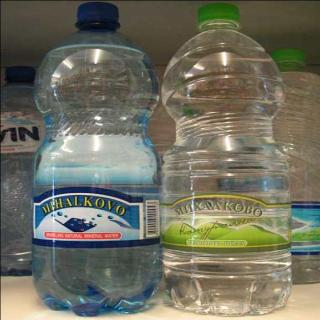Anorganik: (168, 0, 299, 320), (31, 1, 159, 310)
